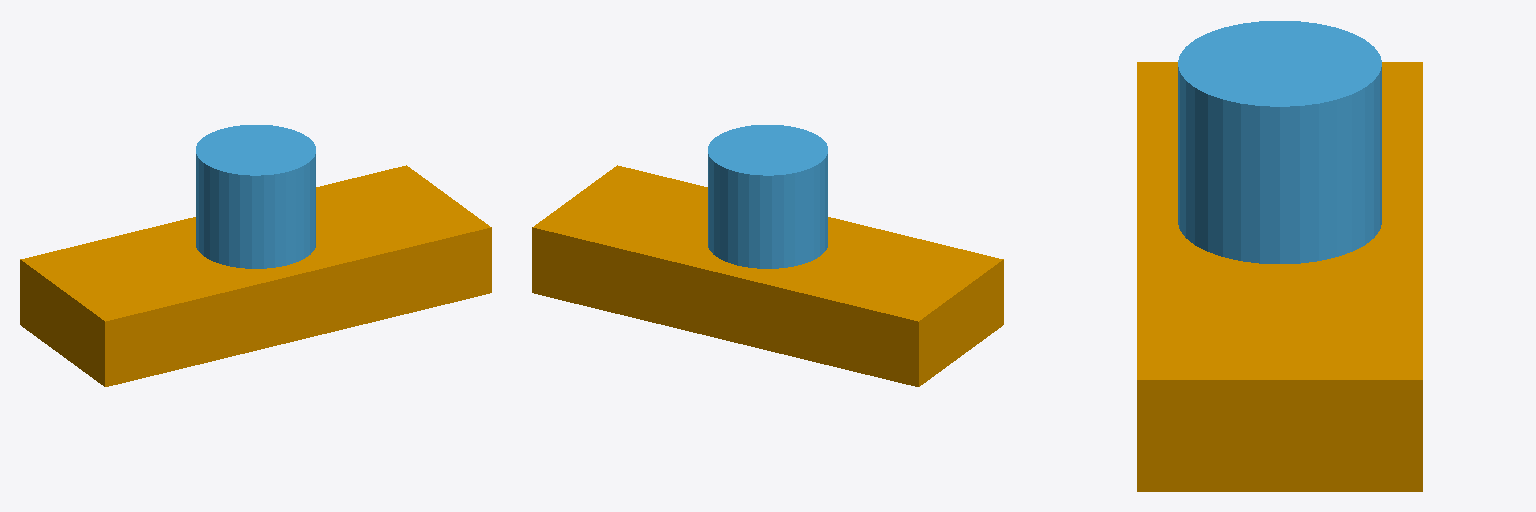
URDF robot description (end_effector):
<?xml version = "1.0"?>

<robot name = "end_effector">

<!-- Color Def - for Material blue>
<material name = "blue">
    <color rgba = "0 0 0.1"/>
</material-->

<!-- Base Link Definition-->

<link name="gripper_base">
    <visual>
        <origin xyz="0.0 0.0 0.0" rpy="0.0 0.0 0.0"/>
        <geometry>
            <box size="0.184 0.07 0.03"/>
        </geometry>   
    </visual>
</link>

<link name="holder">
    <visual>
        <origin xyz="0.0 0.0 0.0" rpy="0.0 0.0 0.0"/>
        <geometry>
            <cylinder radius="0.025" length="0.055"/>
        </geometry>
        <material name="blue"/>
    </visual>
</link>

<joint name="holding_joint" type="fixed">
    <parent link="gripper_base"/>
    <child link="holder"/>
    <axis xyz="0.0 0.0 1.0"/>
    <origin xyz="0.0 0.0 0.03" rpy="0.0 0.0 0.0"/>
    
</joint>

</robot>

--- Facts derived from the render (not from the file) ---
3 views of the same robot in one strip: view 1: azimuth 30°, elevation 25°; view 2: azimuth 150°, elevation 25°; view 3: azimuth 270°, elevation 25° (orthographic).
Robot: end_effector — 2 links, 1 joints (1 fixed); root link gripper_base; default pose: all joints at 0.
Visible links, largest first — view 1: gripper_base, holder; view 2: gripper_base, holder; view 3: gripper_base, holder.
Link boxes in pixels (bbox=[...]): gripper_base: bbox=[20, 165, 491, 386]; holder: bbox=[196, 125, 315, 268]; gripper_base: bbox=[532, 165, 1003, 386]; holder: bbox=[708, 125, 827, 268]; gripper_base: bbox=[1137, 62, 1422, 491]; holder: bbox=[1178, 21, 1381, 263].
Bounding box of the posed robot: 0.184 × 0.07 × 0.0725 m (x, y, z).
Geometry: primitives only (box / cylinder / sphere), no mesh files.